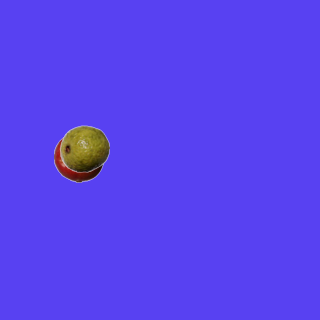Apple Braeburn: (53, 132, 103, 182)
Guava: (59, 123, 109, 173)
